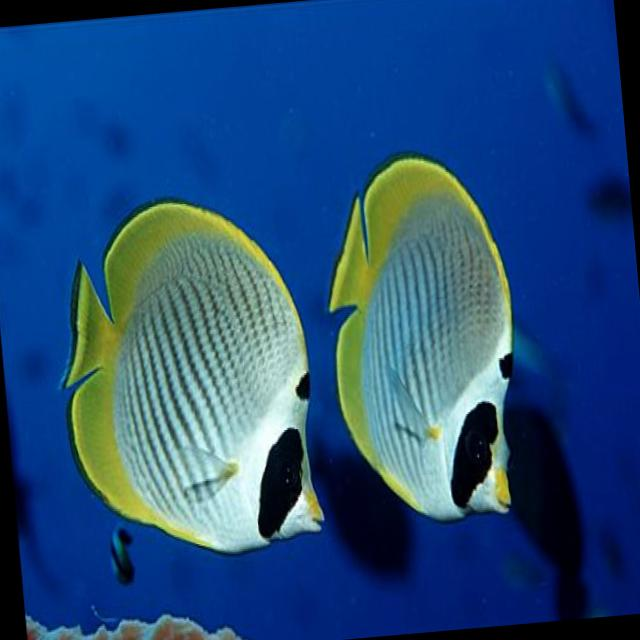ButterflyFish: (45, 188, 324, 568), (314, 140, 531, 530)
